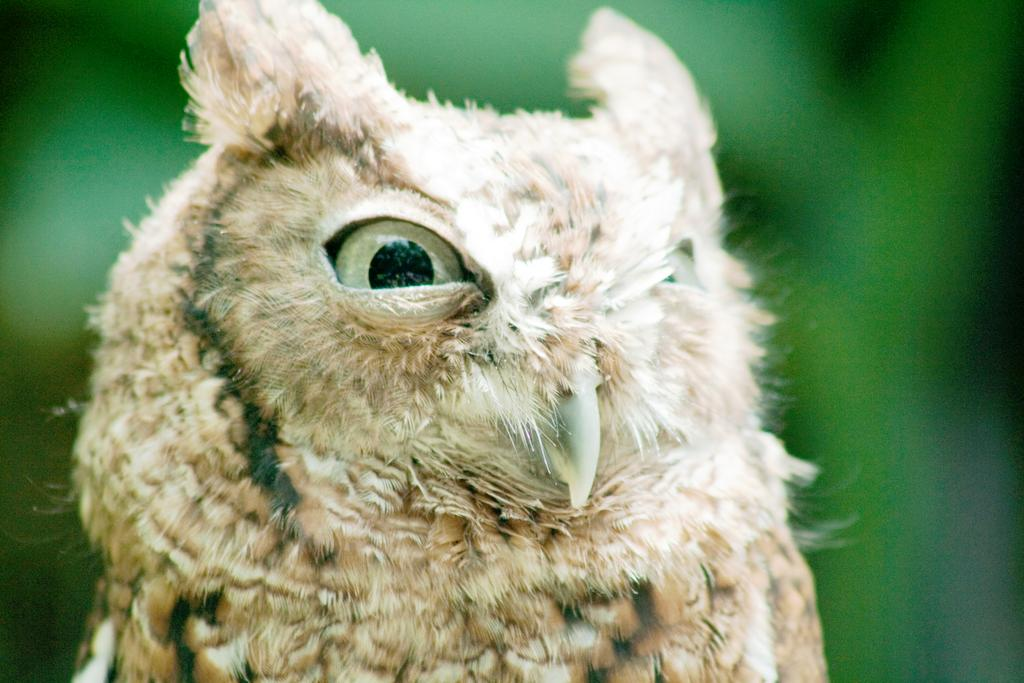Owl: (68, 0, 838, 682)
